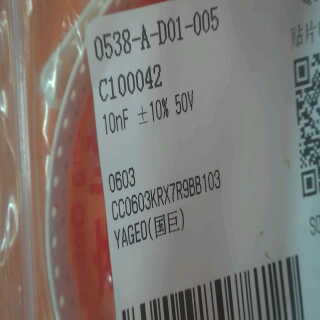10nF: (95, 104, 131, 142)
